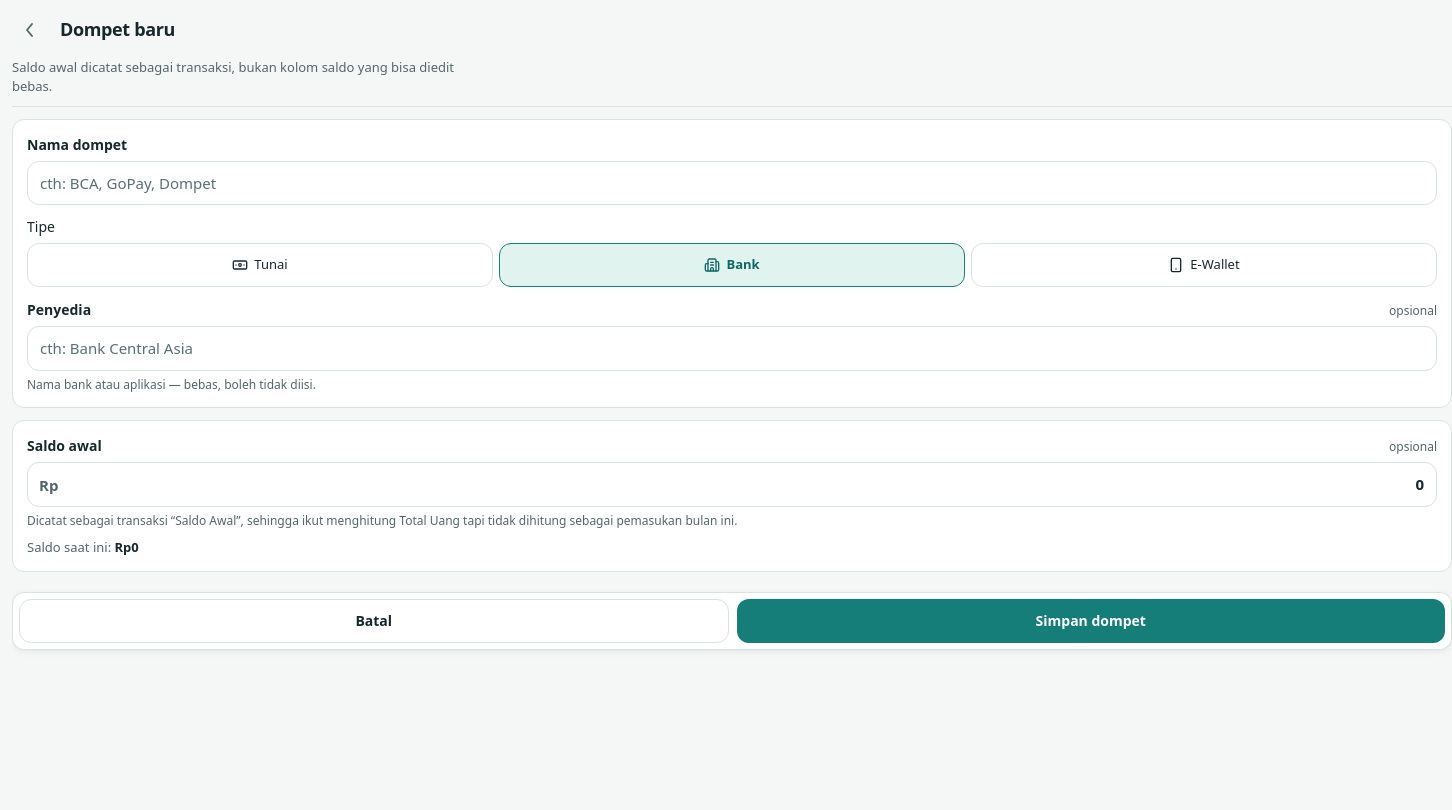
Test: Dompet (wallets) Phase 2D UX › fails a wallet with no name on the field instead of writing anything
Click the button "Simpan dompet" at [1091, 621], box [736, 599, 1445, 643]
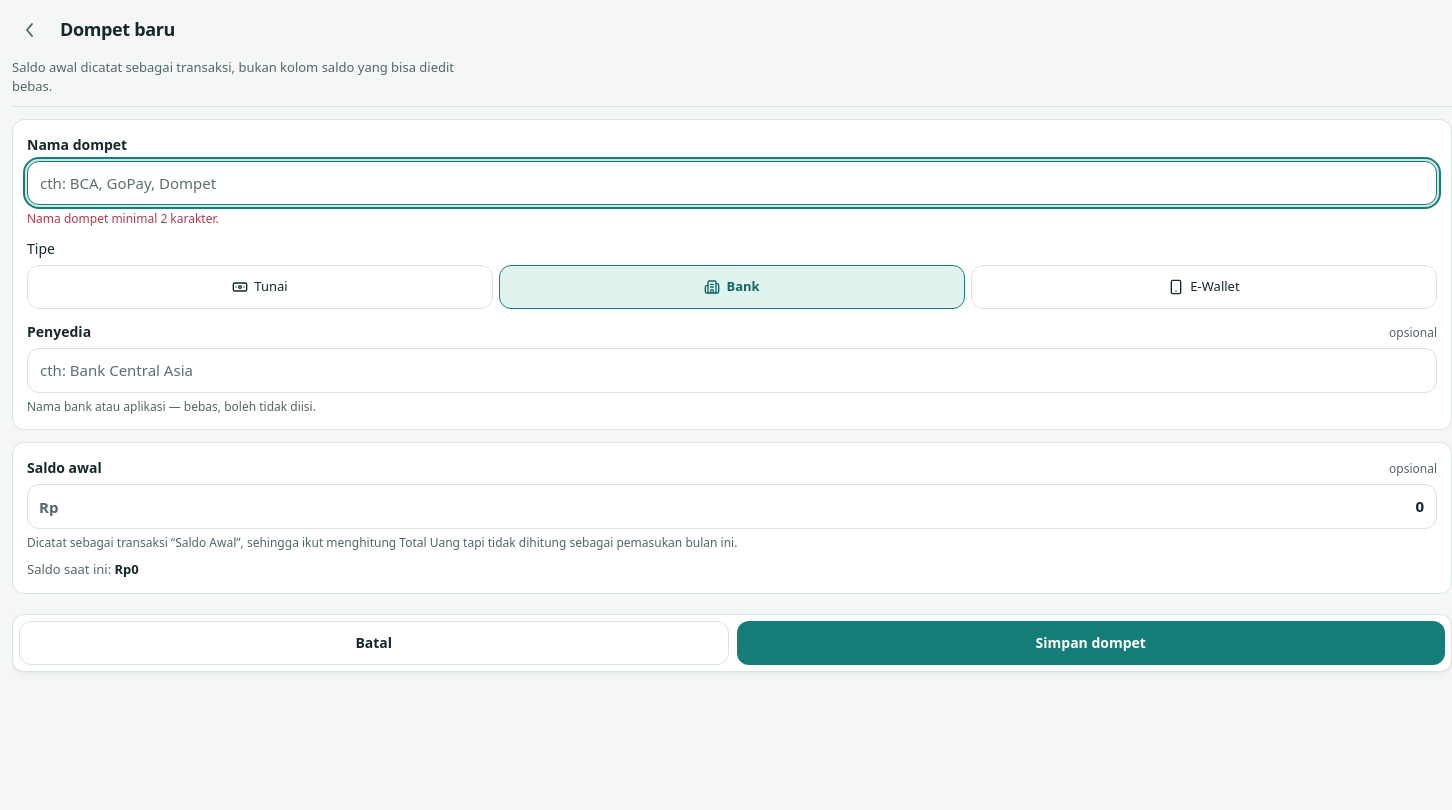
Now the message "Nama dompet minimal 2 karakter." is shown, box [27, 210, 219, 227]
